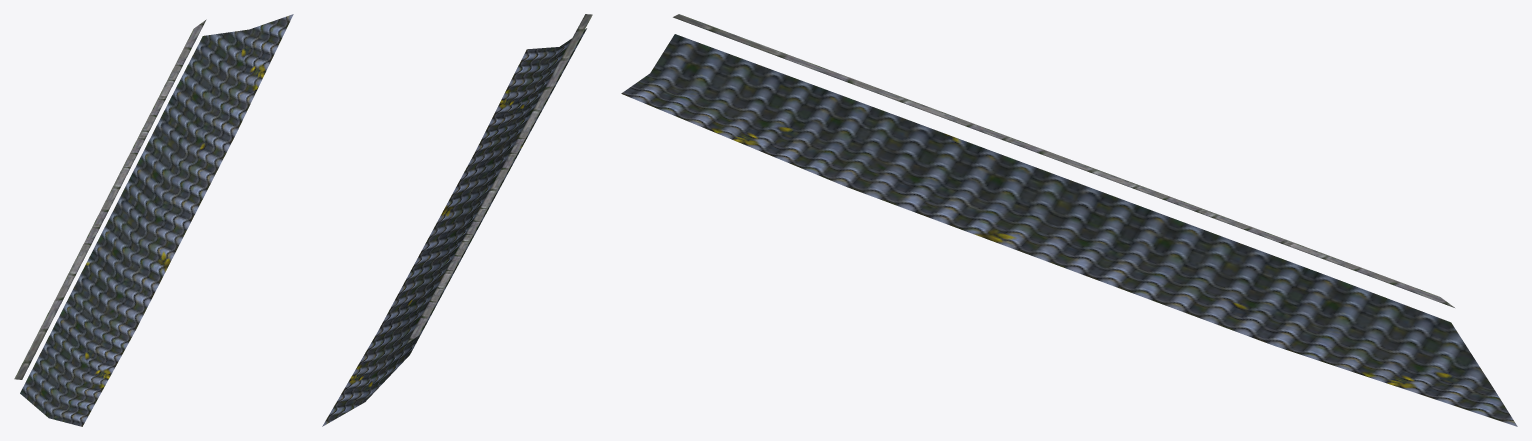
File: S2_Build_XSC059_H9.FBX
The picture shows the model from 3 angles, left to right: view 1: azimuth 30°, elevation 25°; view 2: azimuth 210°, elevation 25°; view 3: azimuth 270°, elevation 25°; orthographic projection. The views are drawn at different scales.
Parts seen in each view (by area): view 1: S2_Build_XSC059_H9; view 2: S2_Build_XSC059_H9; view 3: S2_Build_XSC059_H9.
Part boxes in pixels (x1,y1,x2,y2): S2_Build_XSC059_H9: (14,14,293,426); S2_Build_XSC059_H9: (322,14,592,426); S2_Build_XSC059_H9: (621,14,1517,426).
Size of the model in its own units: 8994 by 790 by 9082.
